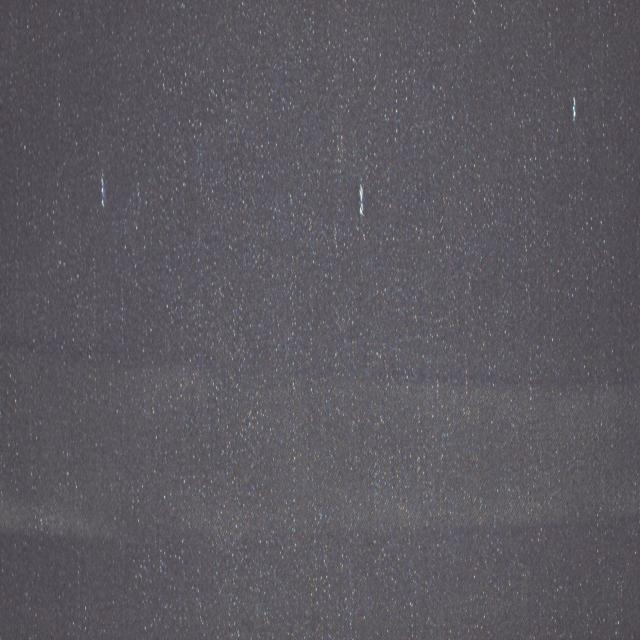Knot: (99, 169, 108, 208), (358, 178, 366, 218), (573, 96, 578, 124)
